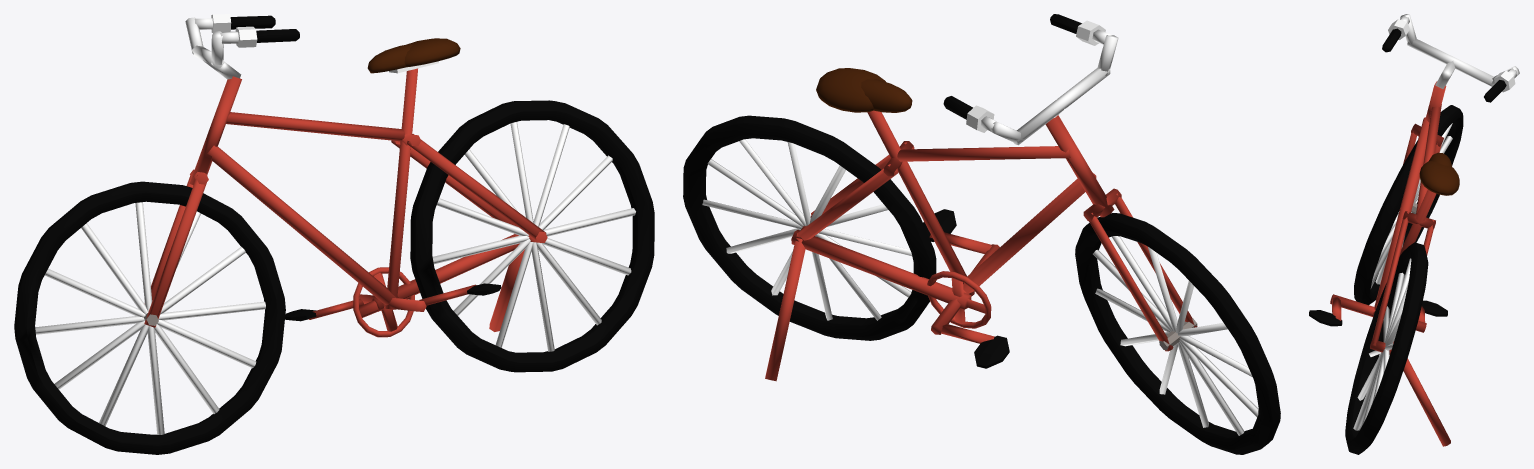
Rendered from Biciklet.fbx.
3 renders of one model, left to right at view 1: azimuth 30°, elevation 25°; view 2: azimuth 150°, elevation 25°; view 3: azimuth 270°, elevation 25°, orthographic. The views are drawn at different scales.
Parts seen in each view (by area): view 1: Torus.001, Torus.002, Cylinder.011, Cylinder, Cylinder.012, Cylinder.009, Cylinder.013, Cylinder.033, Cylinder.032, Cylinder.008, Cylinder.010, Cube.002 (+5 smaller); view 2: Torus.002, Torus.001, Cylinder.011, Cylinder, Cylinder.008, Cylinder.012, Cylinder.009, Cylinder.013, Cube.002, Cylinder.006, Cylinder.010, Cylinder.021 (+7 smaller); view 3: Torus.002, Torus.001, Cylinder, Cylinder.012, Cube.002, Cylinder.006, Cylinder.021, Cylinder.033, Cylinder.011, Cylinder.013, Cylinder.009, Cylinder.028 (+9 smaller).
Part boxes in pixels (x1,y1,x2,y2): Torus.001: (14, 181, 285, 454); Torus.002: (410, 100, 654, 372); Cylinder.011: (35, 202, 265, 434); Cylinder: (432, 122, 635, 351); Cylinder.012: (207, 145, 399, 310); Cylinder.009: (385, 68, 417, 309); Cylinder.013: (226, 112, 404, 141); Cylinder.033: (407, 134, 546, 239); Cylinder.032: (144, 175, 206, 327); Cylinder.008: (372, 234, 519, 311); Cylinder.010: (189, 76, 241, 185); Cube.002: (404, 38, 460, 67); Torus.002: (683, 115, 936, 340); Torus.001: (1075, 213, 1280, 454); Cylinder.011: (1093, 236, 1258, 435); Cylinder: (702, 139, 912, 320); Cylinder.008: (791, 229, 971, 309); Cylinder.012: (963, 172, 1096, 293); Cylinder.009: (867, 110, 974, 296); Cylinder.013: (897, 146, 1070, 161); Cube.002: (816, 68, 885, 112); Cylinder.006: (765, 233, 805, 381); Cylinder.010: (1045, 115, 1114, 217); Cylinder.021: (1013, 68, 1110, 145); Torus.002: (1345, 242, 1428, 454); Torus.001: (1354, 105, 1463, 305); Cylinder: (1353, 258, 1411, 430); Cylinder.012: (1373, 117, 1429, 314); Cube.002: (1419, 161, 1459, 195); Cylinder.006: (1403, 358, 1450, 446); Cylinder.021: (1407, 39, 1494, 86); Cylinder.033: (1372, 212, 1409, 346); Cylinder.011: (1370, 123, 1452, 288); Cylinder.013: (1416, 104, 1441, 214); Cylinder.009: (1375, 189, 1436, 310); Cylinder.028: (1330, 294, 1426, 332).
Size of the model in its own units: 241 by 150 by 91.26.
